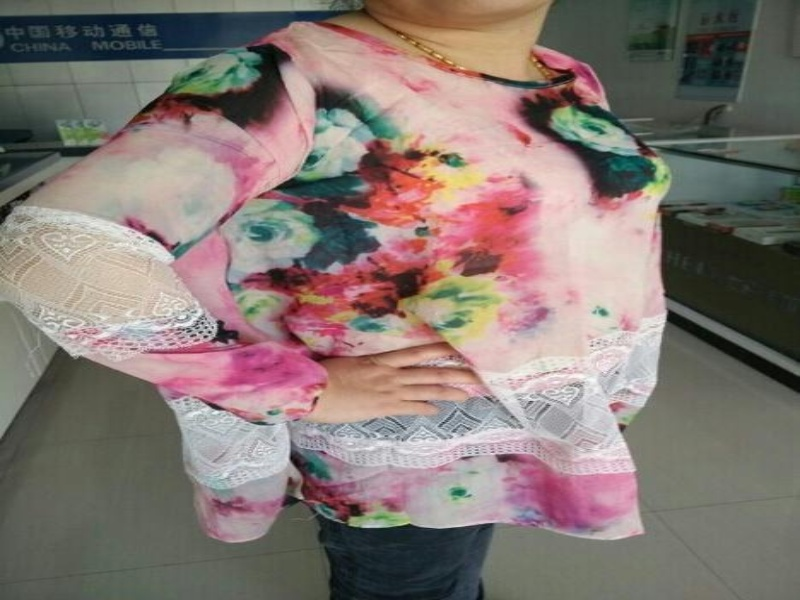long_sleeved_shirt: (7, 17, 675, 549)
trousers: (243, 355, 576, 599)
